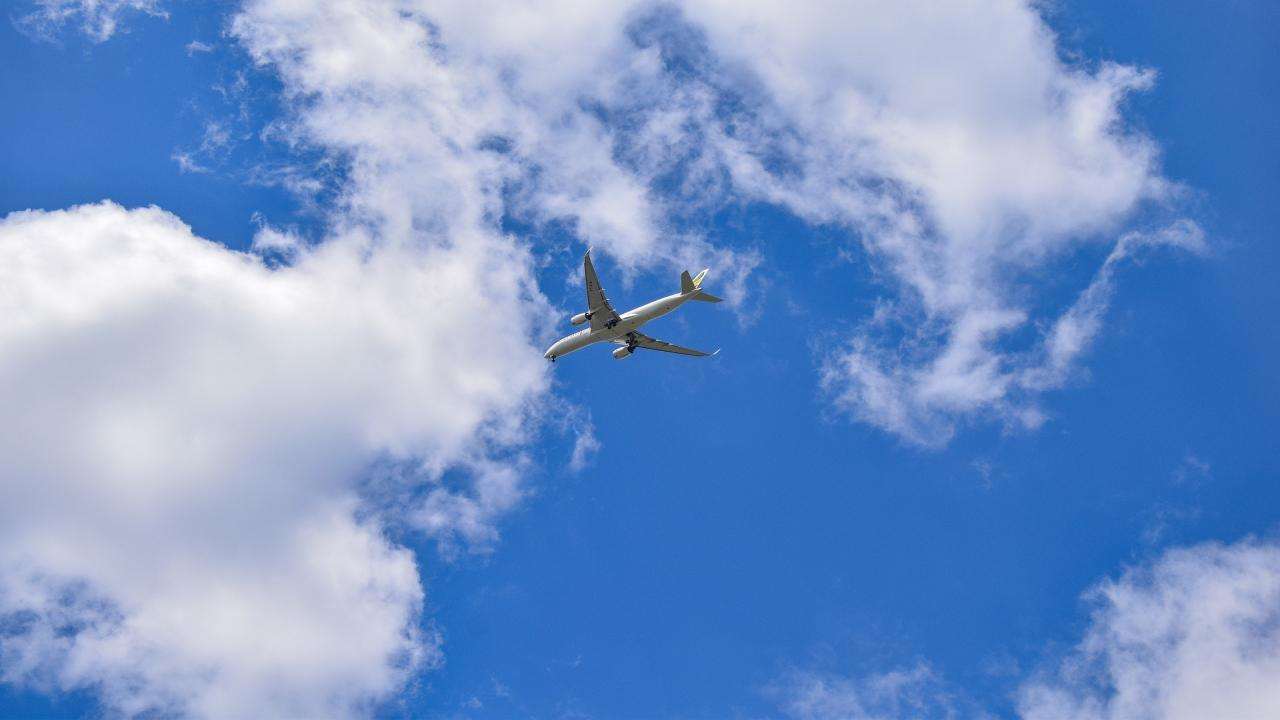Airplane: (534, 229, 738, 379)
